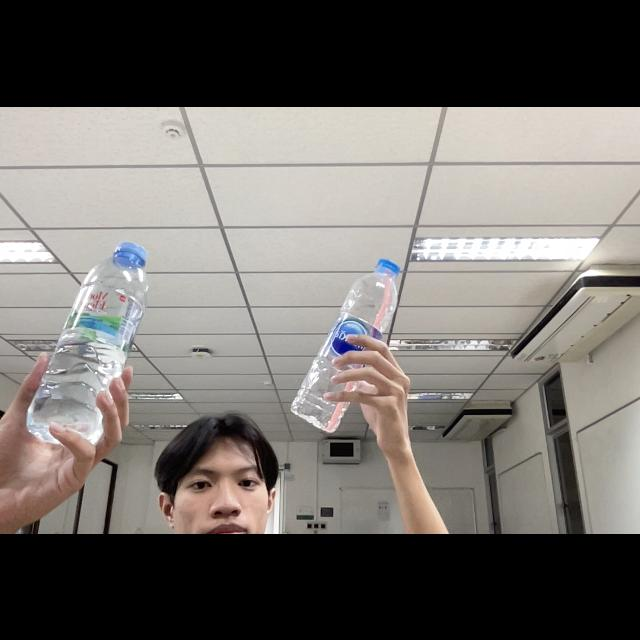plastic_bottle: (22, 237, 150, 449), (287, 253, 405, 432)
